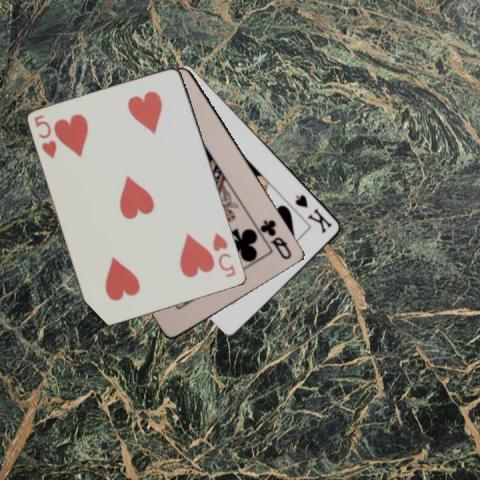5h: (210, 229, 237, 280), (32, 112, 59, 160)
Ks: (292, 192, 334, 236)
Qc: (258, 217, 293, 261)
